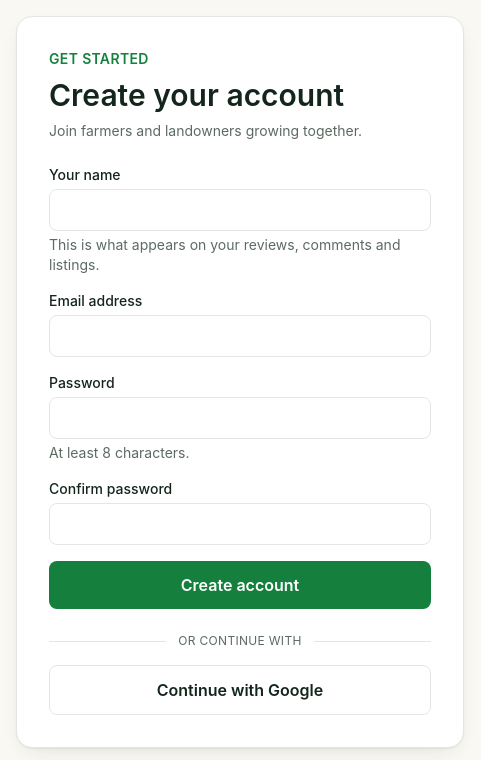
Test: Register › validates matching passwords before signing up
The width and height of the screenshot is (481, 760).
In the field labelled "Your name": (240, 210) [49,189,431,231], type "Amina Farmer"
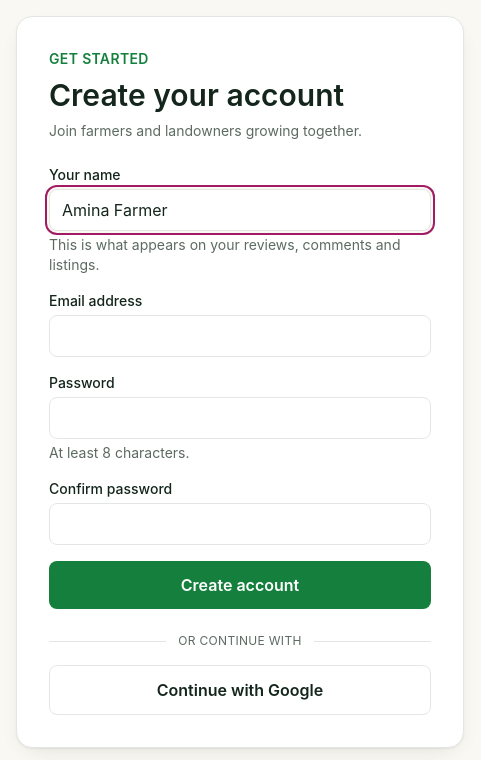
In the field labelled "Email address": (240, 336) [49,315,431,357], type "amina@example.com"
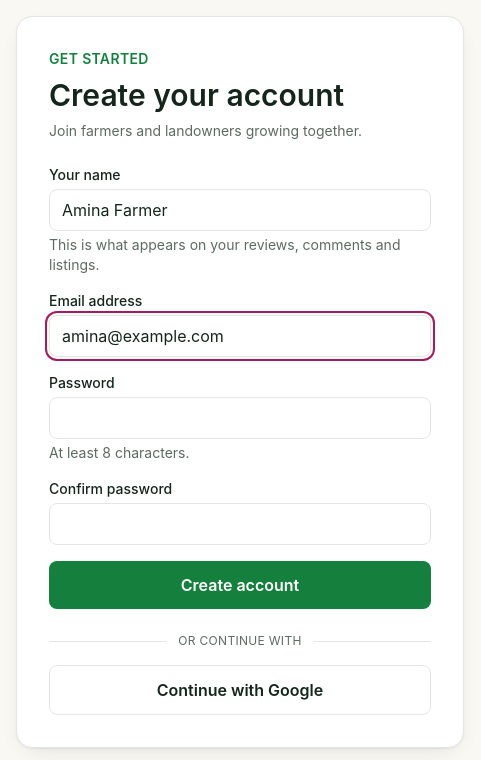
In the password field labelled "Password": (240, 418) [49,397,431,439], type "secure-pass"
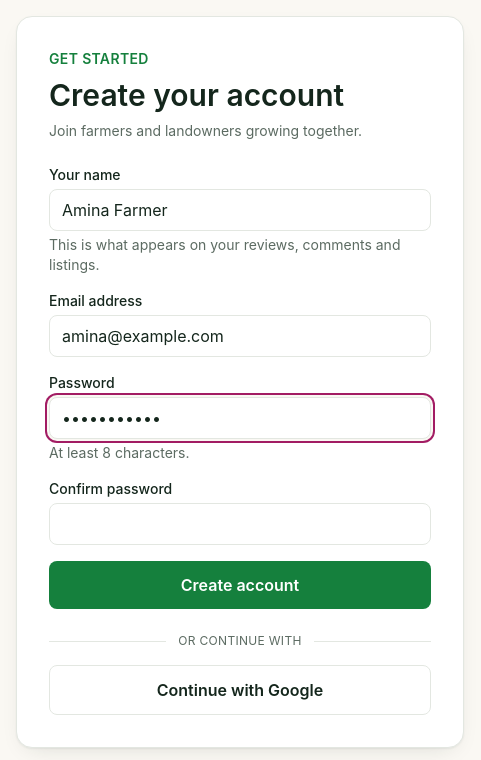
In the password field labelled "Confirm password": (240, 524) [49,503,431,545], type "different-pass"
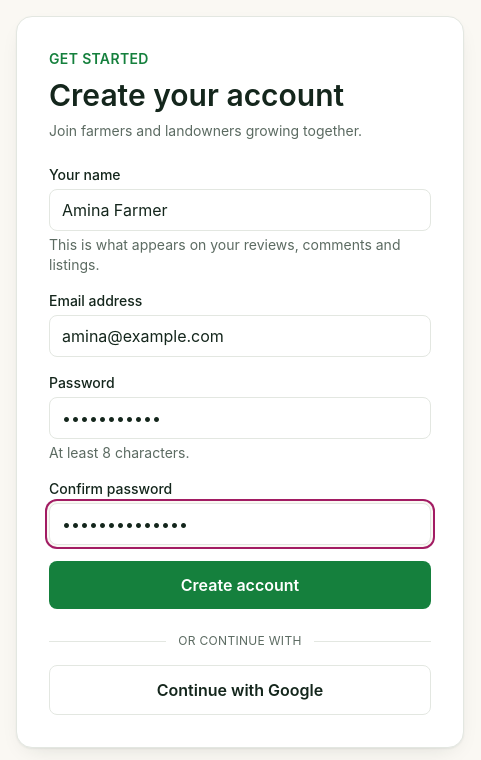
Click the button "Create account": (240, 585) [49,561,431,609]
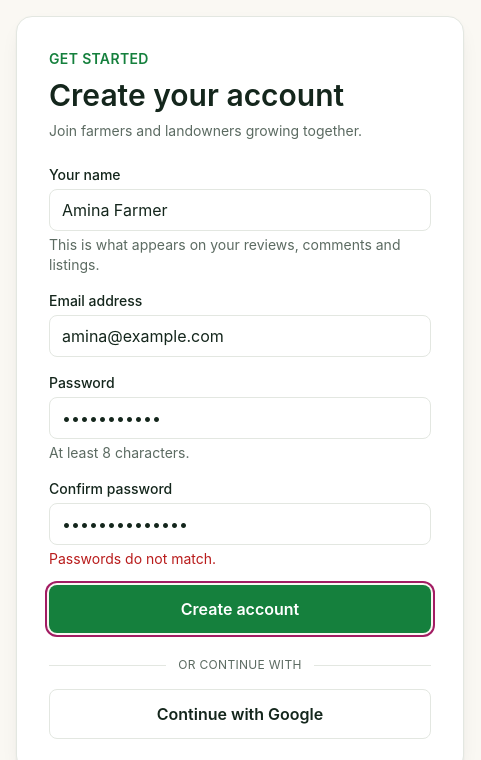
Expected: the text "Passwords do not match." is shown, [49,550,216,567]
